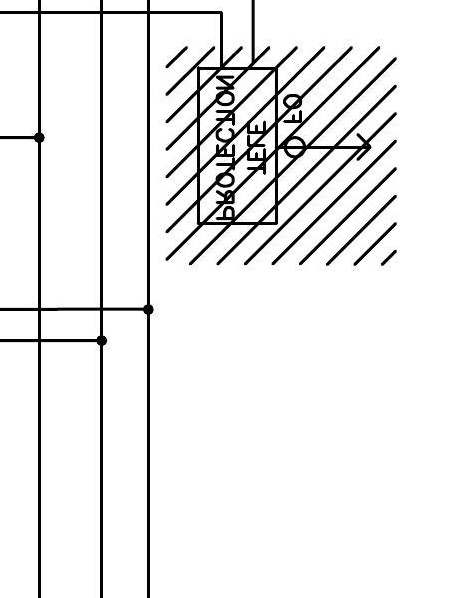tele_protection: (194, 65, 280, 228)
